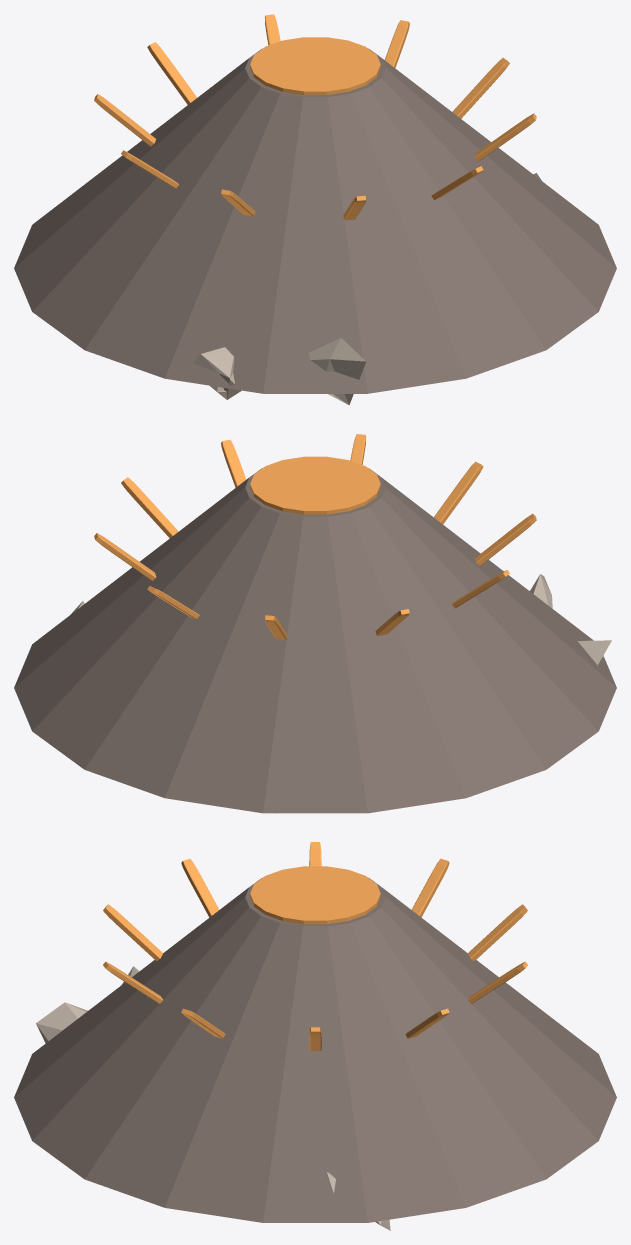
The model's file is Volcano.fbx.
3 views of the same model, one above another, from view 1: azimuth 30°, elevation 25°; view 2: azimuth 150°, elevation 25°; view 3: azimuth 270°, elevation 25° (orthographic).
Parts seen in each view (by area): view 1: RockDark.004, Lava.002, Rock.002; view 2: RockDark.004, Lava.002, Rock.002; view 3: RockDark.004, Lava.002, Rock.002.
Boxes of the visible parts, box(x1,y1,x2,y2) form: RockDark.004: box(14, 48, 616, 393); Lava.002: box(94, 14, 536, 220); Rock.002: box(193, 173, 541, 405); RockDark.004: box(14, 468, 616, 813); Lava.002: box(94, 434, 536, 639); Rock.002: box(70, 574, 611, 813); RockDark.004: box(14, 878, 616, 1222); Lava.002: box(103, 842, 527, 1050); Rock.002: box(36, 966, 390, 1230).
Size of the model in its own units: 118 by 52.05 by 120.
